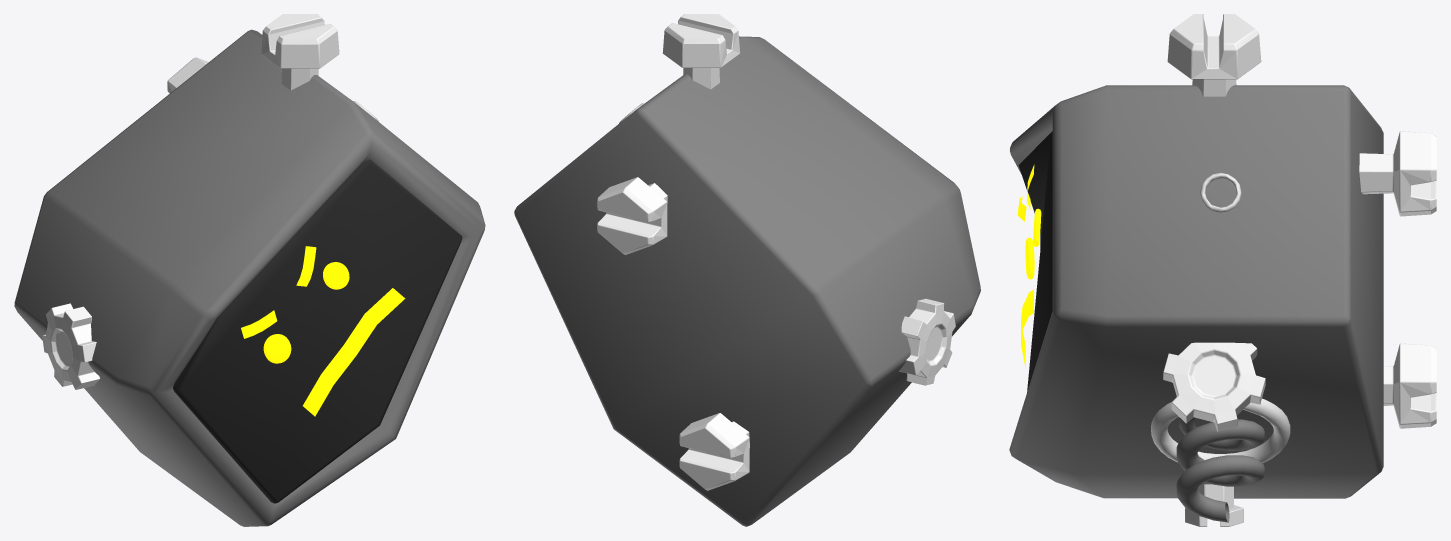
File: handhead stage 2.fbx
3 views of the same model, side by side, from view 1: azimuth 30°, elevation 25°; view 2: azimuth 150°, elevation 25°; view 3: azimuth 270°, elevation 25° (orthographic). The views are drawn at different scales.
Visible parts, largest first — view 1: Cube.001, Cube.002, Plane.001, Circle.003, Circle.002; view 2: Cube.001; view 3: Cube.001, Circle.001, Cube.002, Torus.002, Torus.001.
Part boxes in pixels (left/top/right/bottom): Cube.001: left=14, top=14, right=485, bottom=526; Cube.002: left=173, top=159, right=462, bottom=503; Plane.001: left=303, top=288, right=405, bottom=416; Circle.003: left=263, top=334, right=291, bottom=363; Circle.002: left=323, top=262, right=349, bottom=289; Cube.001: left=514, top=14, right=980, bottom=526; Cube.001: left=1009, top=14, right=1436, bottom=526; Circle.001: left=1176, top=417, right=1264, bottom=522; Cube.002: left=1018, top=131, right=1052, bottom=392; Torus.002: left=1151, top=398, right=1290, bottom=462; Torus.001: left=1200, top=172, right=1241, bottom=212.
Bounding box in the file's own units: 233 × 246 × 181.
